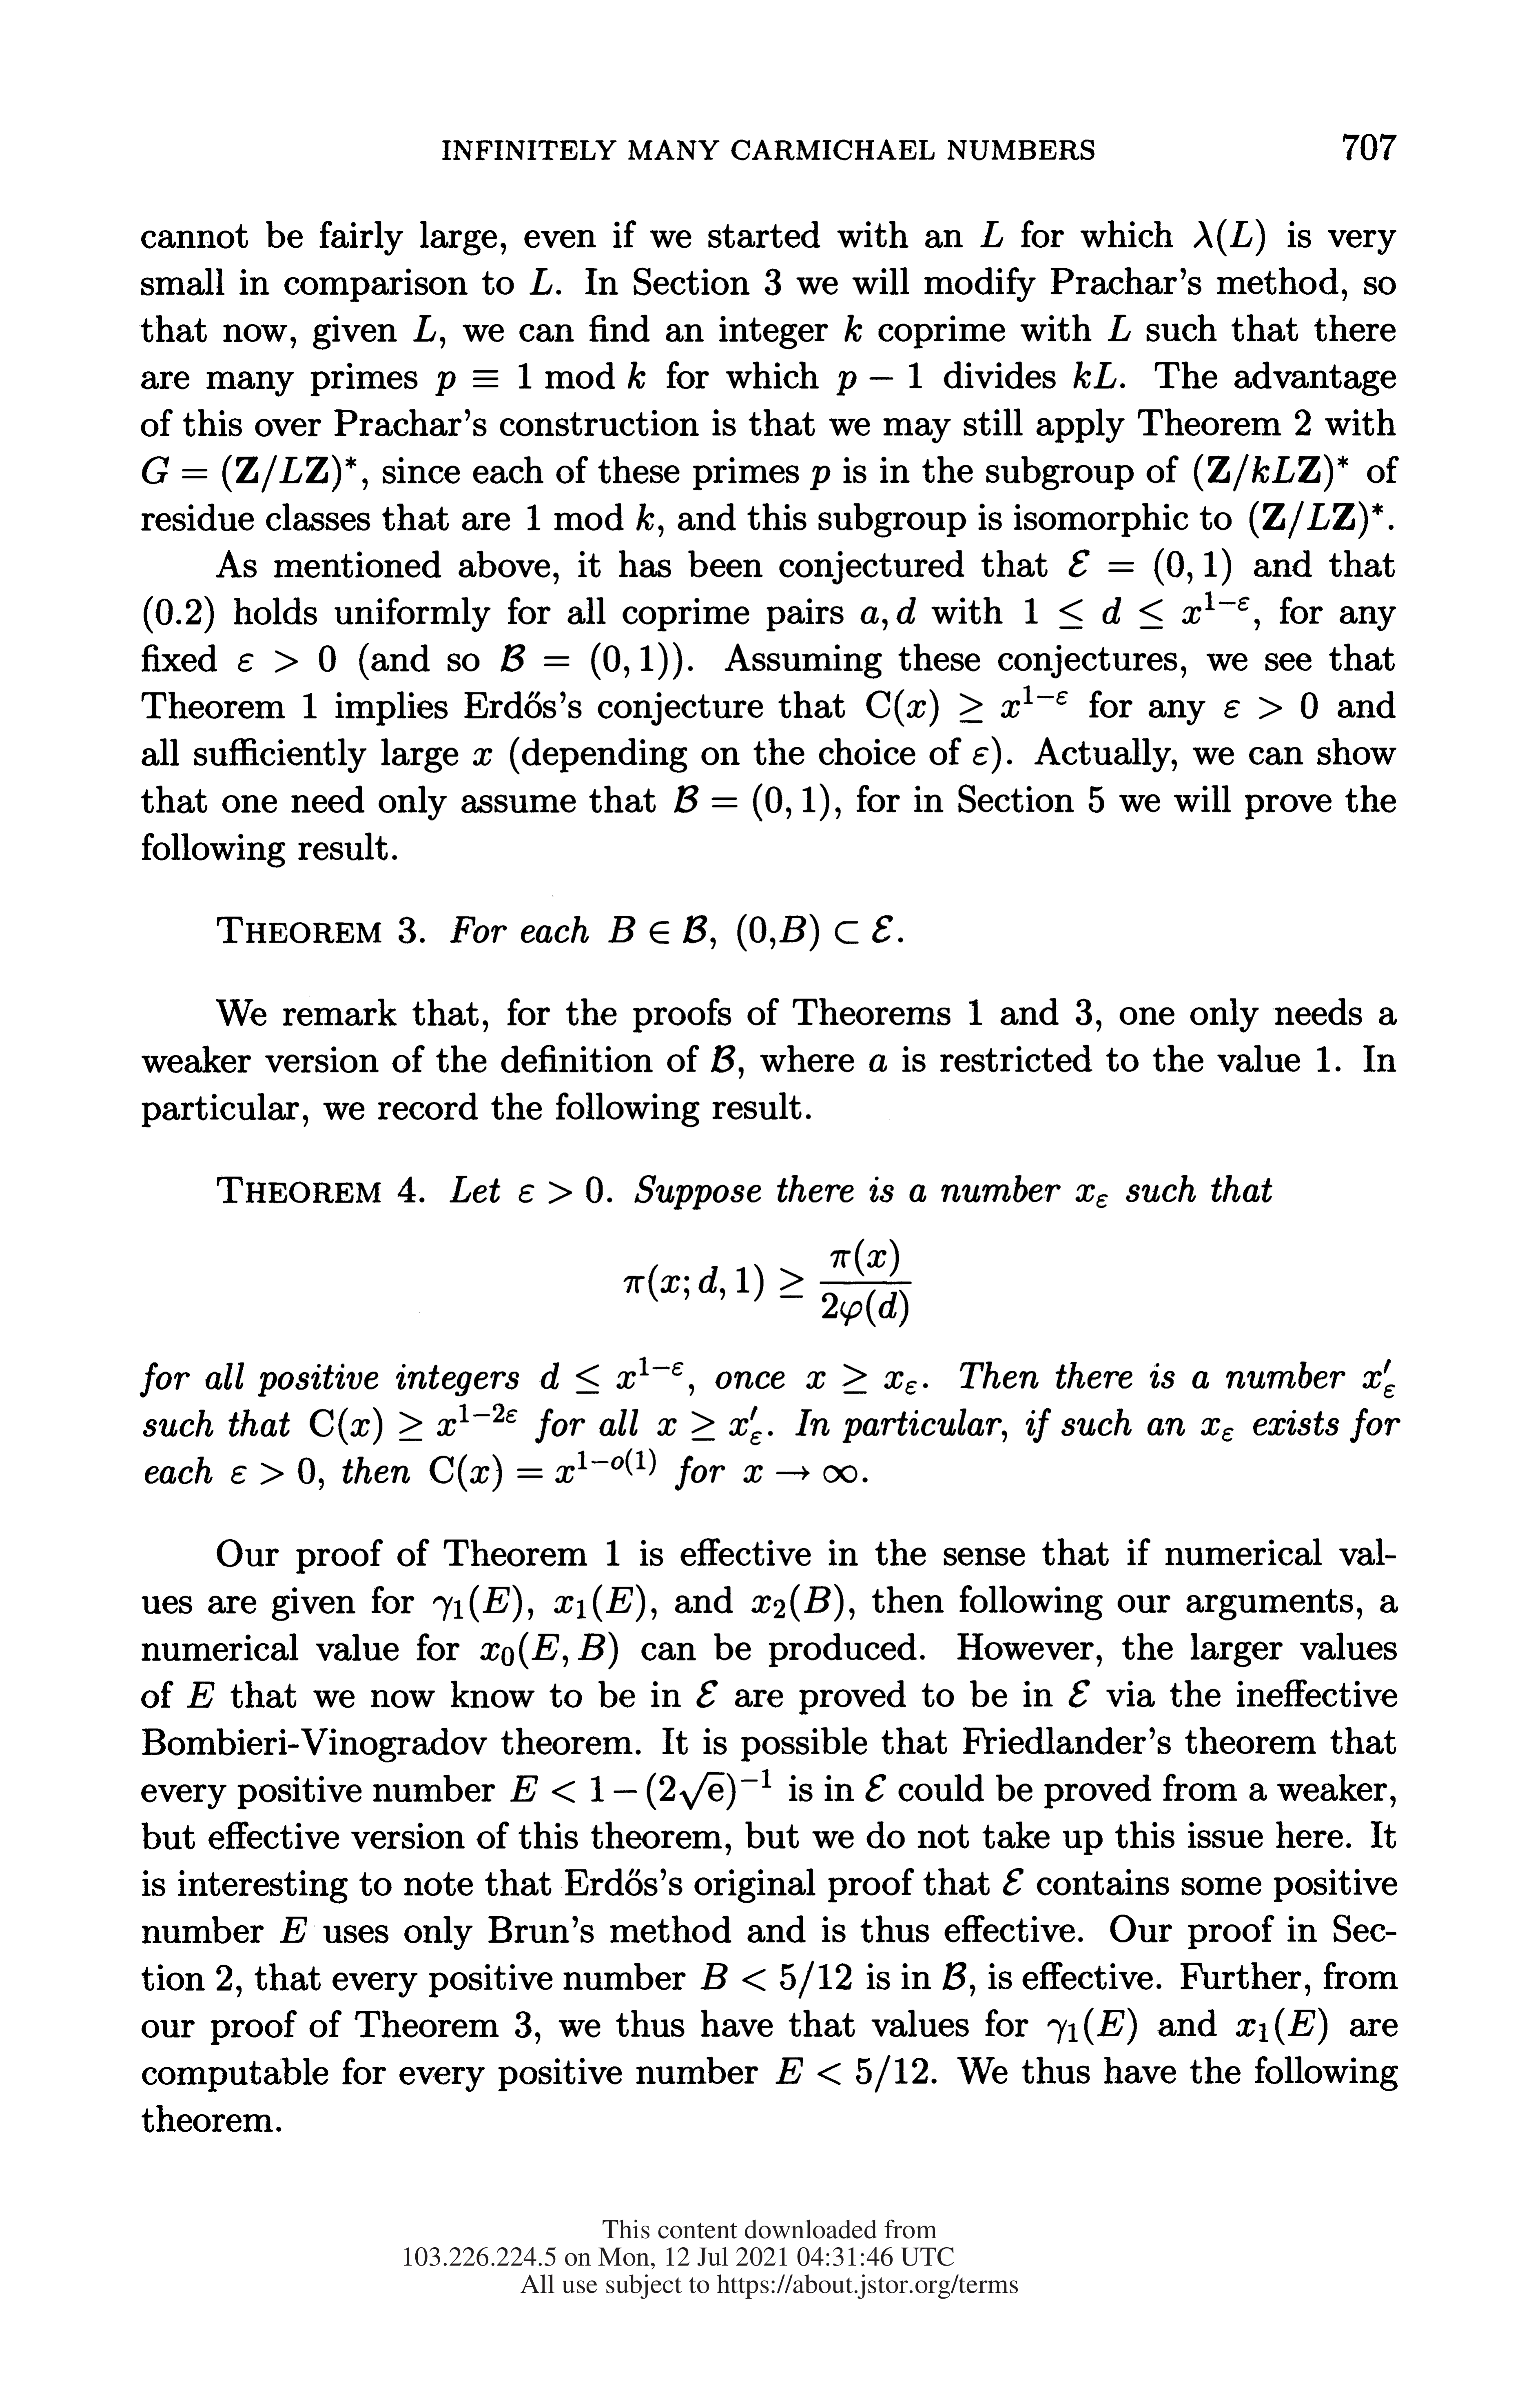maths: (623, 1239, 912, 1327), (510, 1769, 772, 1810), (430, 1448, 656, 1492), (866, 684, 1068, 727), (310, 1404, 517, 1444), (1024, 591, 1249, 628), (142, 455, 356, 491), (435, 362, 645, 395), (500, 642, 667, 679), (674, 783, 830, 821), (1068, 548, 1231, 584), (700, 1960, 851, 1999), (737, 914, 893, 951), (1194, 455, 1347, 491), (775, 2055, 928, 2092), (540, 1357, 682, 1394), (1249, 500, 1382, 539), (481, 1632, 617, 1669), (658, 1406, 761, 1444), (609, 914, 716, 950), (433, 1585, 533, 1622), (751, 1585, 844, 1622), (1237, 2008, 1328, 2045), (807, 1364, 917, 1394), (554, 1585, 644, 1622), (1047, 2008, 1137, 2045), (837, 362, 921, 395), (554, 504, 654, 530), (1194, 219, 1265, 256), (239, 646, 335, 672), (1224, 692, 1317, 718), (519, 1176, 602, 1204), (232, 1458, 314, 1485), (744, 1466, 858, 1483), (1363, 1358, 1394, 1399), (1073, 362, 1116, 388), (1075, 1185, 1107, 1208), (1201, 1418, 1233, 1441), (188, 1681, 214, 1708), (281, 1917, 307, 1943), (710, 1044, 735, 1072), (942, 1962, 966, 1990), (861, 606, 888, 630), (980, 221, 1003, 247), (530, 269, 553, 295), (696, 1680, 717, 1708), (1068, 1680, 1089, 1708), (414, 314, 435, 340), (1109, 314, 1130, 340), (866, 1774, 886, 1802), (1003, 1867, 1023, 1896), (896, 597, 916, 623), (810, 465, 830, 490), (845, 314, 861, 342), (474, 748, 491, 765), (870, 1055, 888, 1072), (973, 746, 987, 765)
